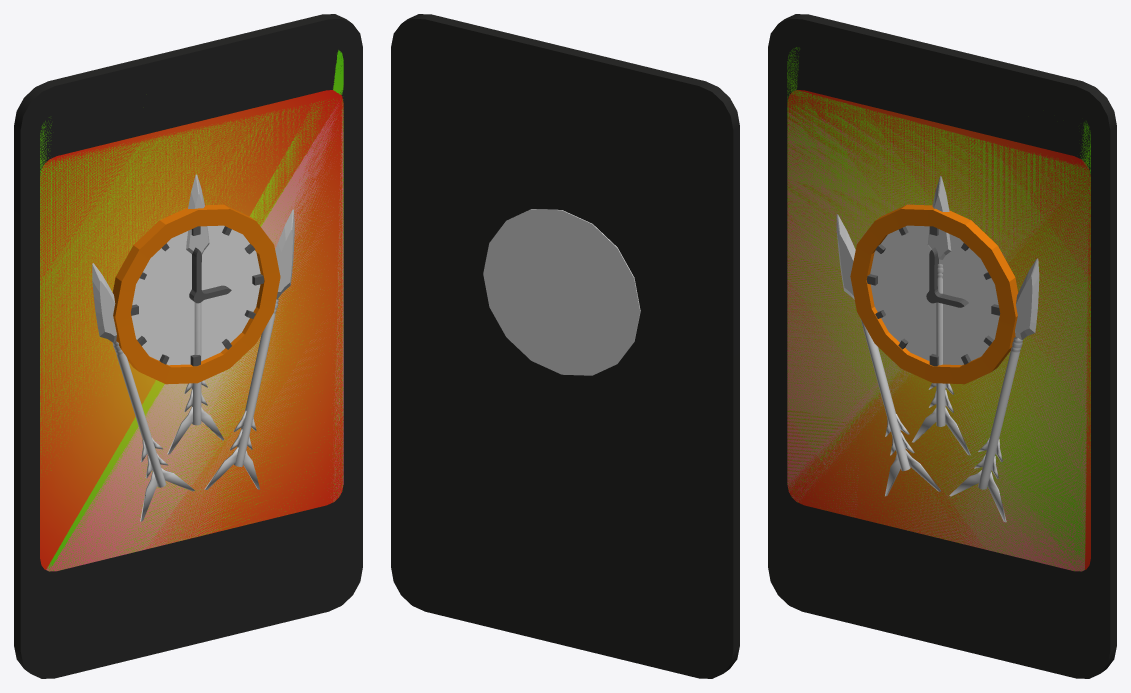
Rendered from card.fbx.
The picture shows the model from 3 angles, left to right: view 1: azimuth 30°, elevation 25°; view 2: azimuth 150°, elevation 25°; view 3: azimuth 330°, elevation 25°; orthographic projection.
Parts seen in each view (by area): view 1: card1, card2, card3, card4_1, card5_1; view 2: card1, card4_1, card2; view 3: card1, card2, card3, card4_1, card5_1.
Boxes of the visible parts, x1,y1,x2,y2 form: card1: (14,14,362,678); card2: (14,15,362,678); card3: (21,19,362,571); card4_1: (112,204,280,384); card5_1: (92,174,294,521); card1: (391,14,739,678); card4_1: (483,209,640,375); card2: (391,14,739,675); card1: (768,14,1116,678); card2: (768,14,1116,678); card3: (769,19,1110,647); card4_1: (850,204,1018,384); card5_1: (836,176,1039,522).
Size of the model in its own units: 22.27 by 36.83 by 1.63.
